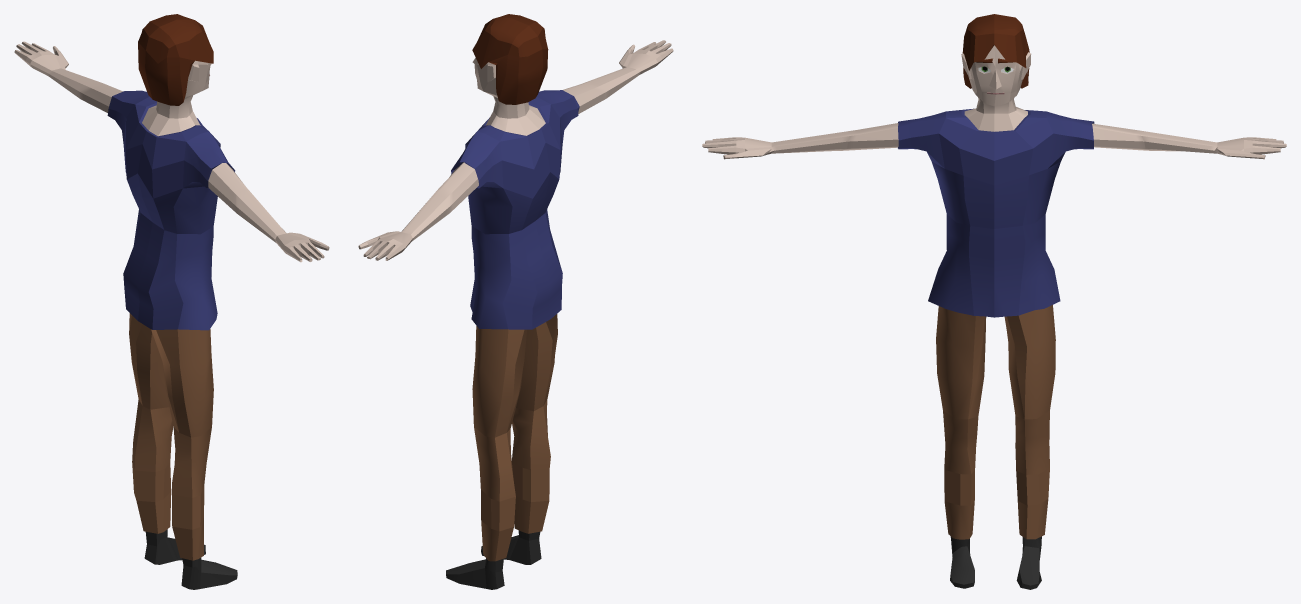
The model's file is NewTech_HUmanMod_V2.fbx.
The picture shows the model from 3 angles, left to right: view 1: azimuth 30°, elevation 25°; view 2: azimuth 150°, elevation 25°; view 3: azimuth 270°, elevation 25°; orthographic projection.
Parts seen in each view (by area): view 1: HUUUMan; view 2: HUUUMan; view 3: HUUUMan.
Part boxes in pixels (box(x1,y1,x2,y2)): HUUUMan: box(14, 14, 329, 589); HUUUMan: box(358, 14, 673, 589); HUUUMan: box(702, 14, 1286, 589).
Bounding box in the file's own units: 3.22 × 19.62 × 18.97.
